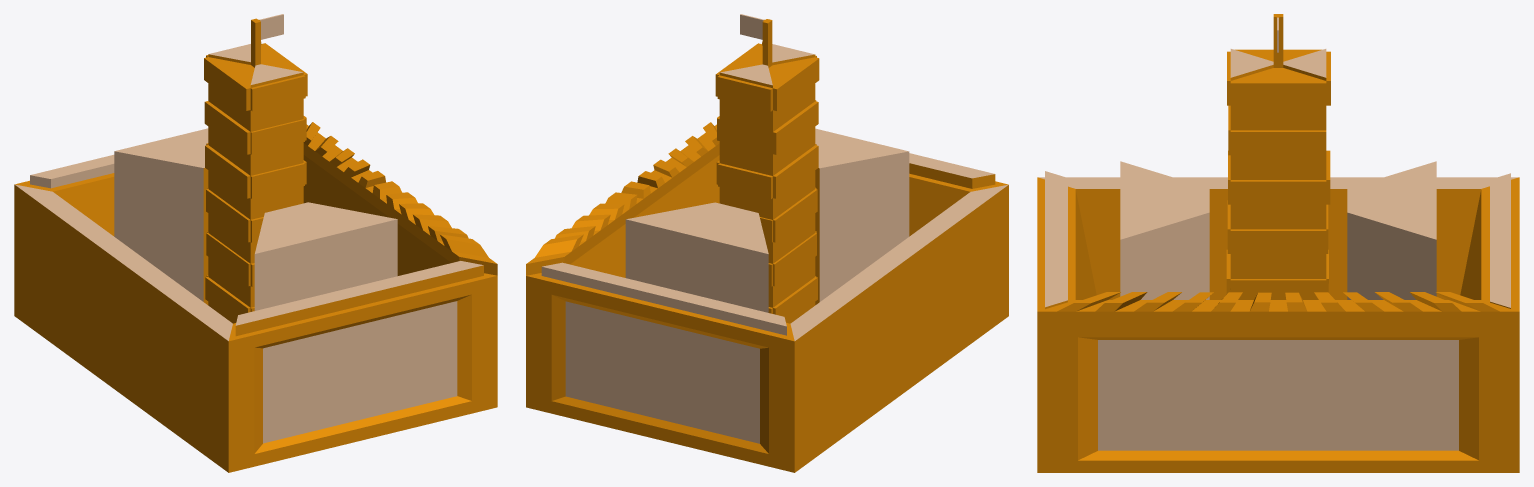
File: BasePrincipal.fbx
3 renders of one model, left to right at view 1: azimuth 30°, elevation 25°; view 2: azimuth 150°, elevation 25°; view 3: azimuth 270°, elevation 25°, orthographic. The views are drawn at different scales.
Visible parts, largest first — view 1: Cube; view 2: Cube; view 3: Cube.
Boxes of the visible parts, left/top/right/bottom form: Cube: left=14, top=14, right=497, bottom=472; Cube: left=526, top=14, right=1008, bottom=472; Cube: left=1037, top=14, right=1519, bottom=472.
Bounding box in the file's own units: 550 × 667 × 760.
